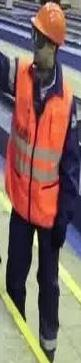boots: (0, 190, 14, 246), (0, 253, 16, 289)
gloves: (33, 43, 56, 69), (51, 221, 67, 247)
hard-hat: (32, 2, 66, 46)
mask: (32, 44, 57, 71)
ppe-suit: (0, 17, 32, 251)
vest: (0, 0, 35, 146)
